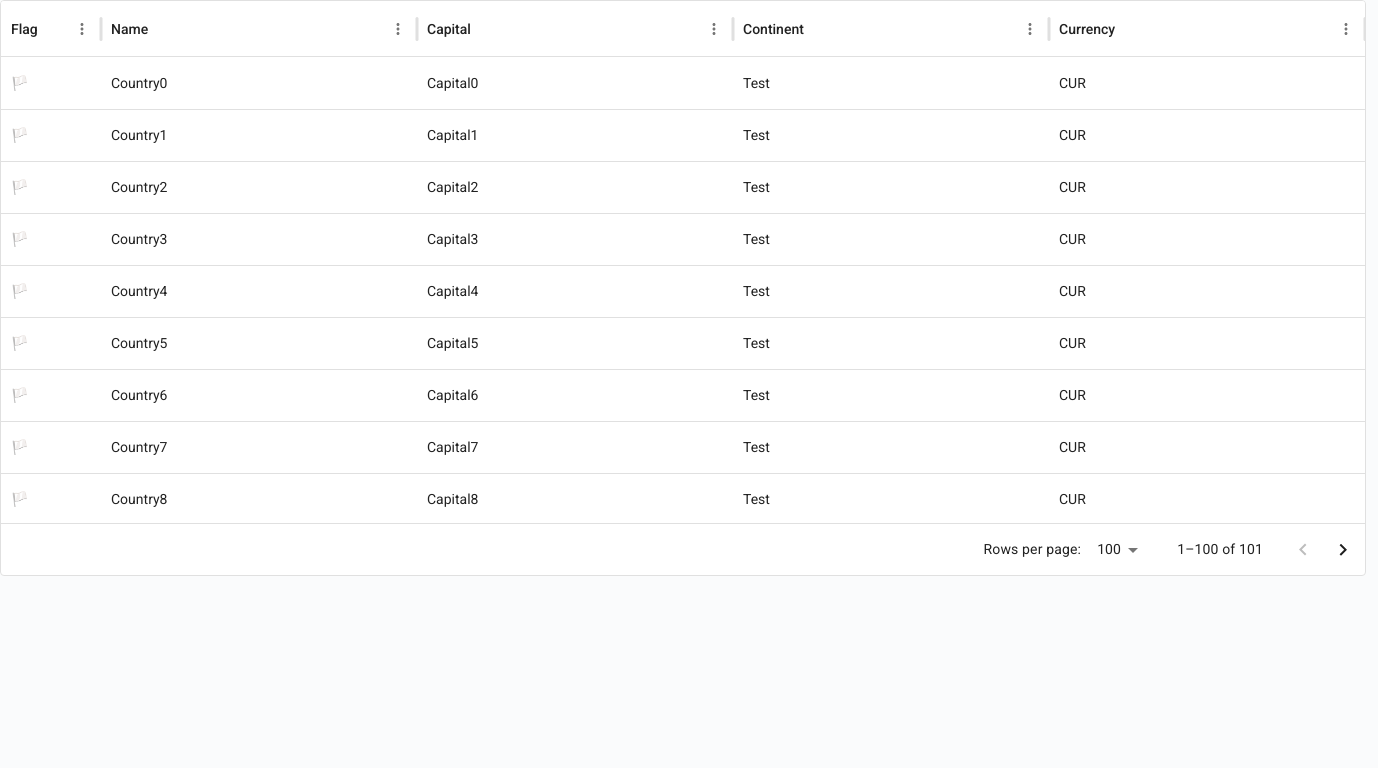
Test case: WorldDataContext integration › paginates rows
Expected: the text "Country0" is shown, [111, 75, 168, 91]
Expected: the text "Country100" is not shown
What coordinates should you click on to do the following:
click the button named "Go to next page"
I would click on:
 (1343, 550)
Its box is [1323, 530, 1363, 570].
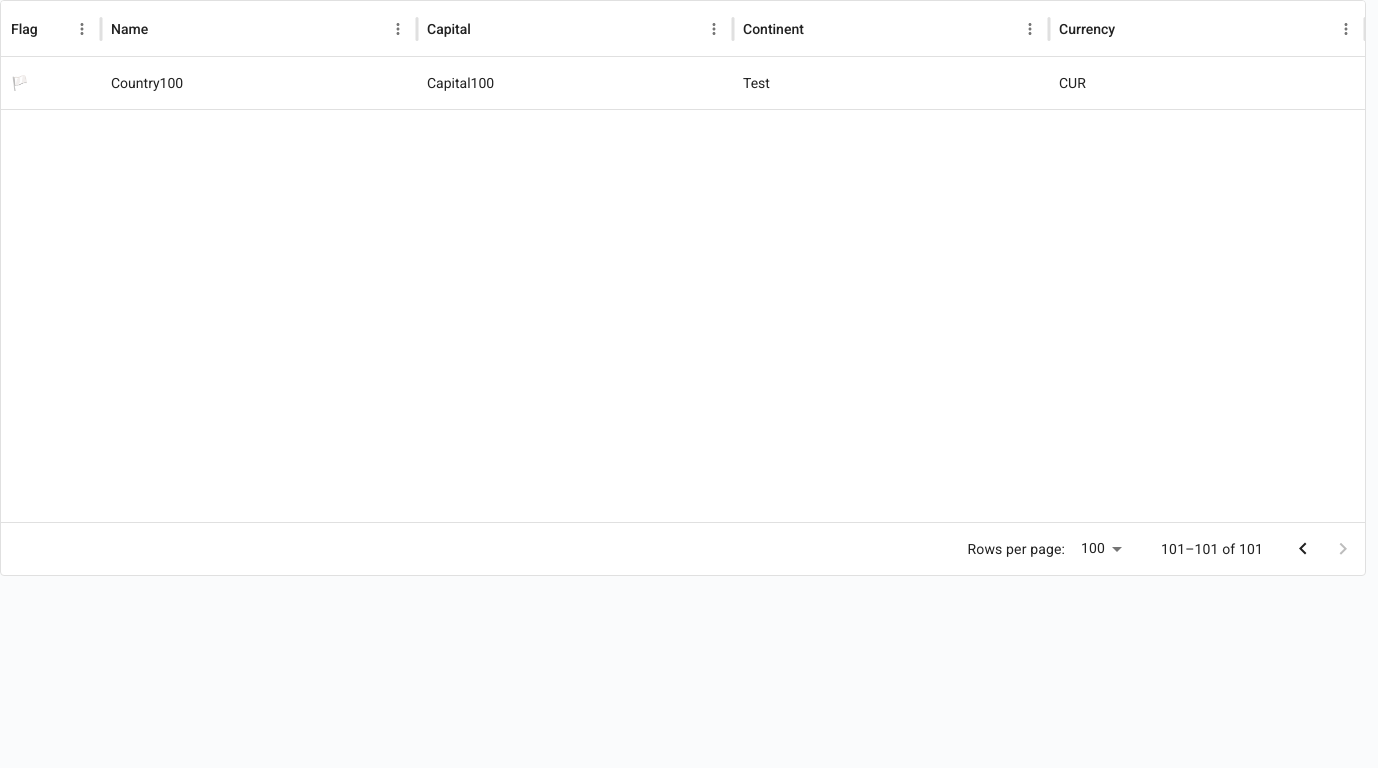
Expected: the text "Country100" is shown, [111, 75, 183, 91]
